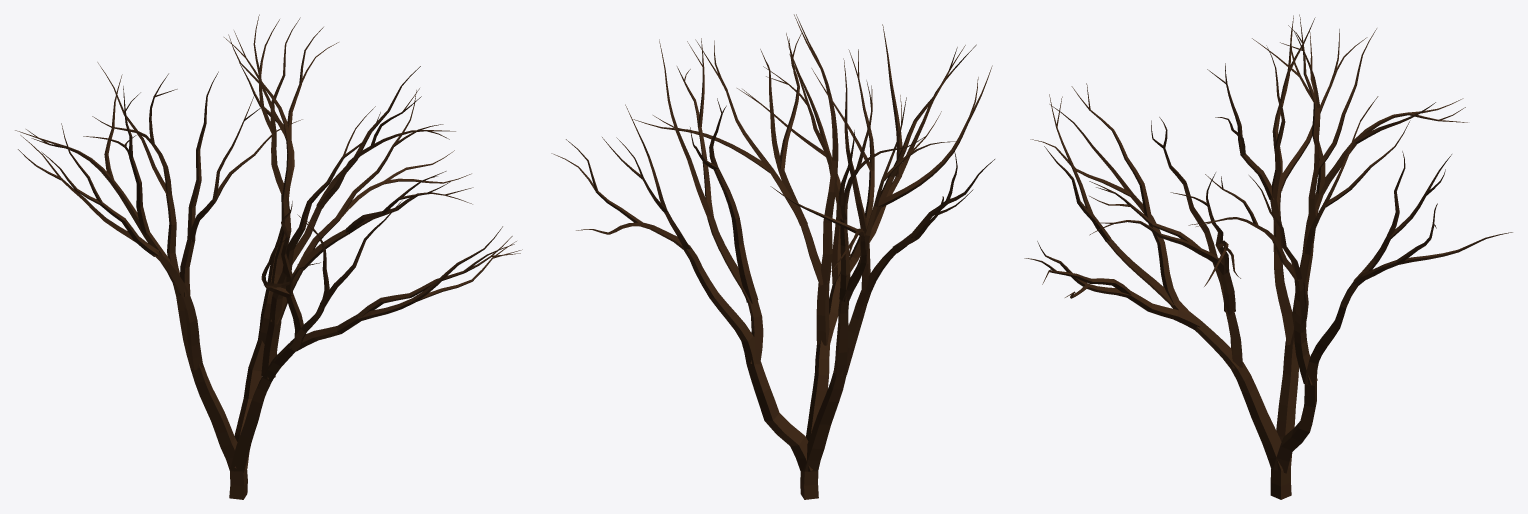
File: Tree_003.fbx
3 views of the same model, side by side, from view 1: azimuth 30°, elevation 25°; view 2: azimuth 150°, elevation 25°; view 3: azimuth 270°, elevation 25° (orthographic).
Parts seen in each view (by area): view 1: tree; view 2: tree; view 3: tree.
Boxes of the visible parts, x1,y1,x2,y2 form: tree: (15,14,522,499); tree: (551,14,994,499); tree: (1024,14,1512,499).
Size of the model in its own units: 488 by 524 by 532.
